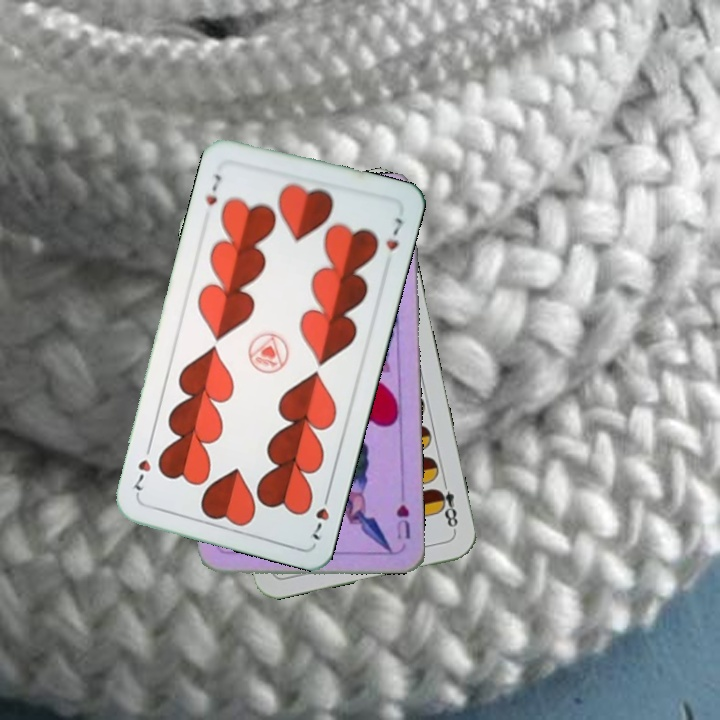E8: (431, 475, 461, 534)
H7: (308, 487, 333, 543), (201, 170, 224, 208)
HU: (392, 501, 413, 542)
